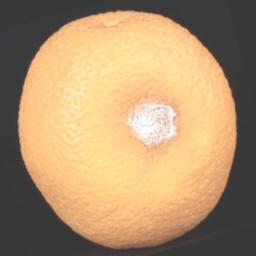Orange Rotten: (0, 0, 256, 249)
